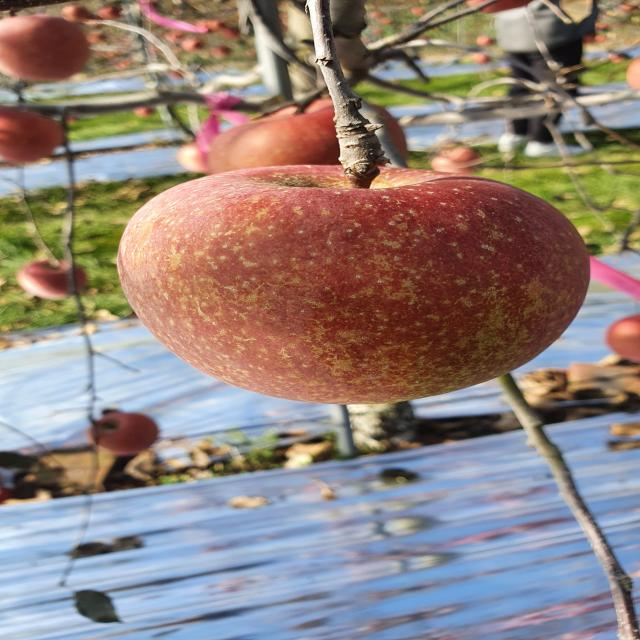fresh: (103, 154, 609, 413)
